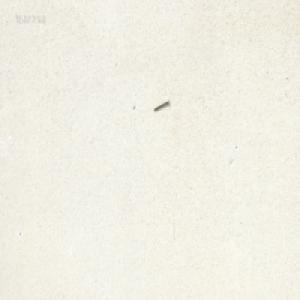Bolt: (152, 98, 169, 110)
